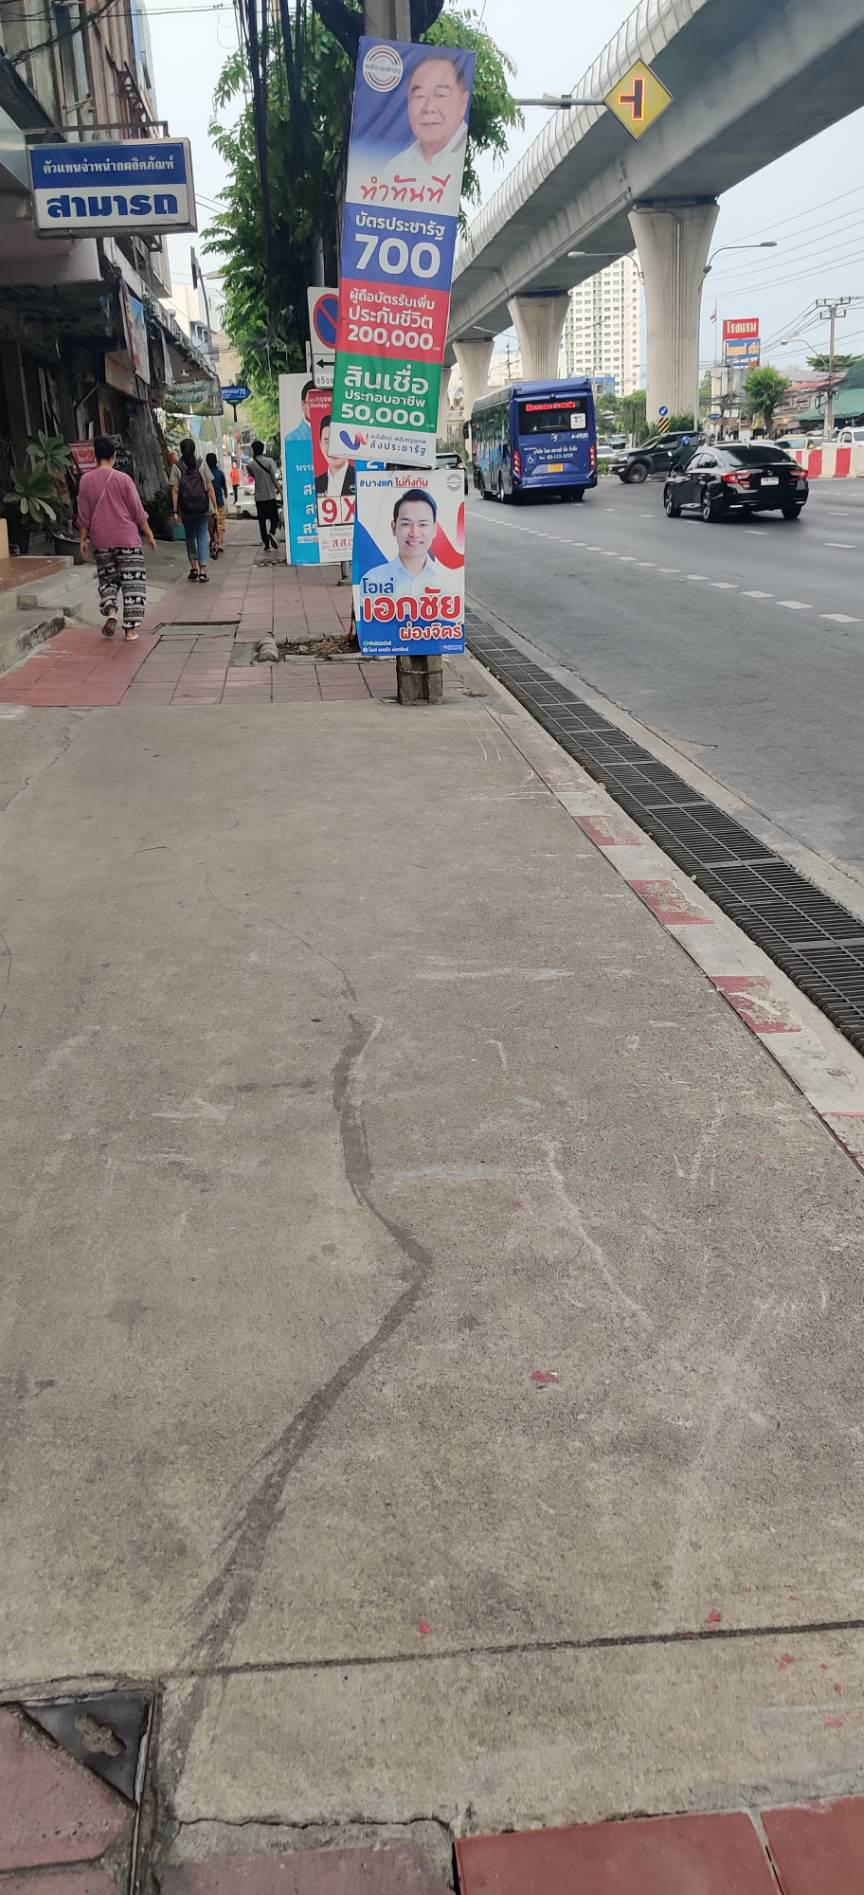Banner: (346, 34, 469, 473), (344, 470, 483, 659)
